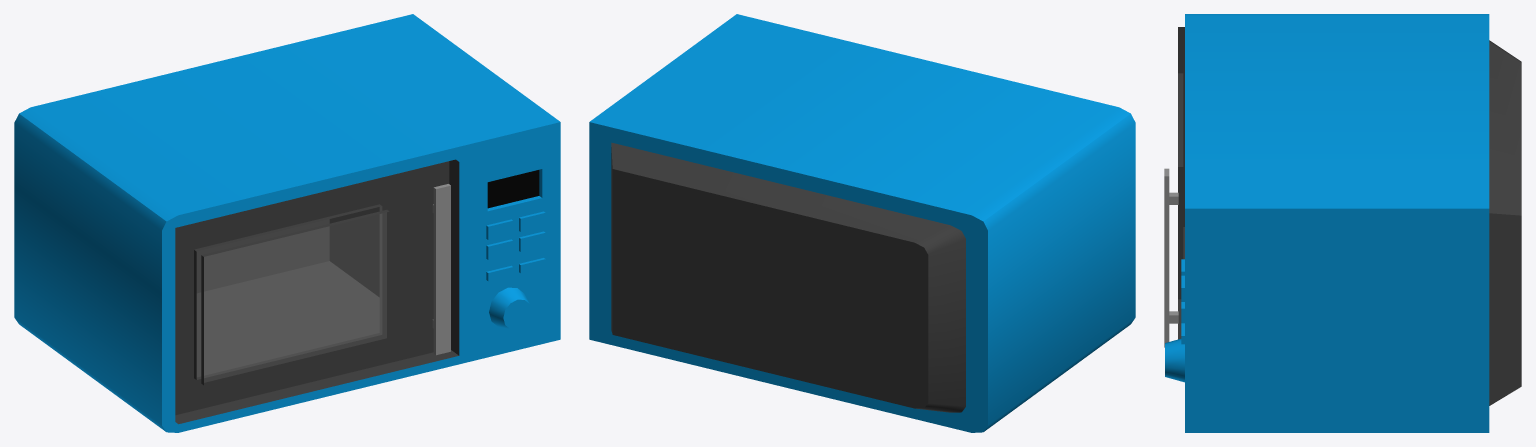
File: Microwave.fbx
3 renders of one model, left to right at view 1: azimuth 30°, elevation 25°; view 2: azimuth 150°, elevation 25°; view 3: azimuth 270°, elevation 25°, orthographic. The views are drawn at different scales.
Parts seen in each view (by area): view 1: Microwave; view 2: Microwave; view 3: Microwave.
Part boxes in pixels (x1,y1,x2,y2): Microwave: [14, 14, 560, 432]; Microwave: [589, 14, 1135, 432]; Microwave: [1164, 14, 1521, 432].
Bounding box in the file's own units: 106 × 55.22 × 79.73.
